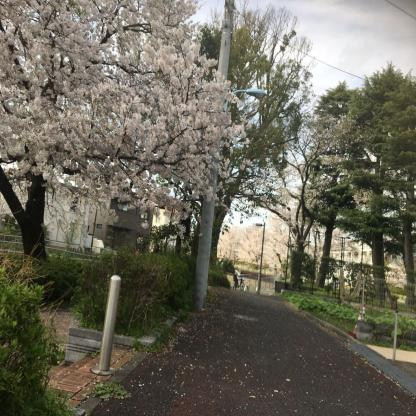Someiyoshino: (0, 1, 247, 248), (256, 107, 374, 240), (217, 212, 293, 266)
